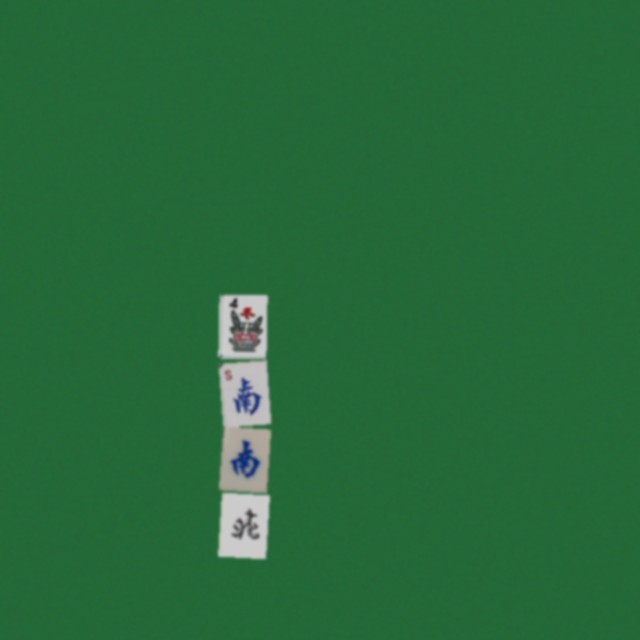tile: (218, 294, 266, 358), (218, 360, 266, 424), (218, 426, 266, 490), (218, 492, 266, 556)
